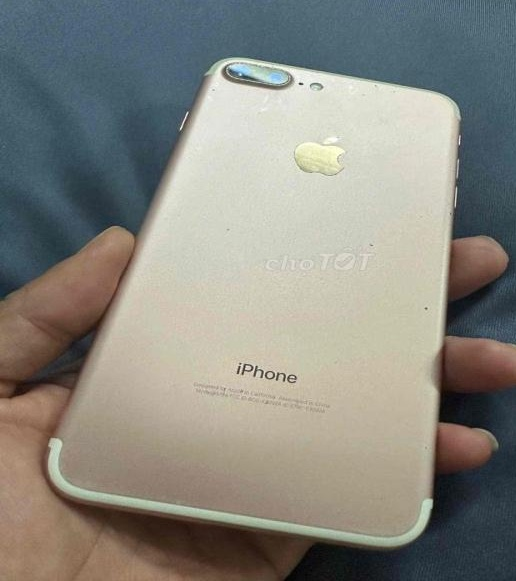scratch: (208, 60, 296, 95), (345, 79, 397, 101), (417, 198, 457, 219), (204, 217, 238, 237), (361, 240, 384, 252), (421, 303, 438, 313)
